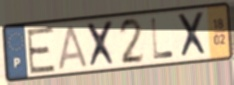2: (119, 17, 145, 65)
A: (56, 24, 90, 71)
E: (25, 24, 57, 75)
L: (149, 16, 175, 61)
X: (85, 18, 119, 70), (175, 10, 210, 60)
